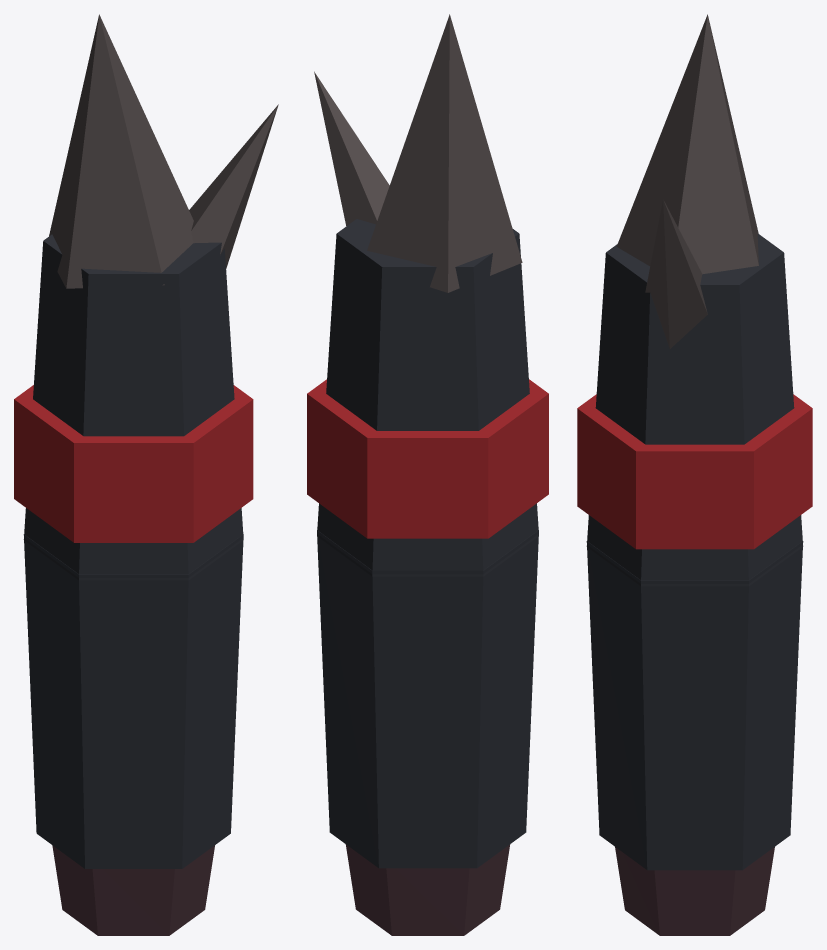
The model's file is person_tool_shard_shock.obj.
The picture shows the model from 3 angles, left to right: view 1: azimuth 30°, elevation 25°; view 2: azimuth 150°, elevation 25°; view 3: azimuth 270°, elevation 25°; orthographic projection. The views are drawn at different scales.
Bounding box in the file's own units: 0.078 × 0.306 × 0.074.
